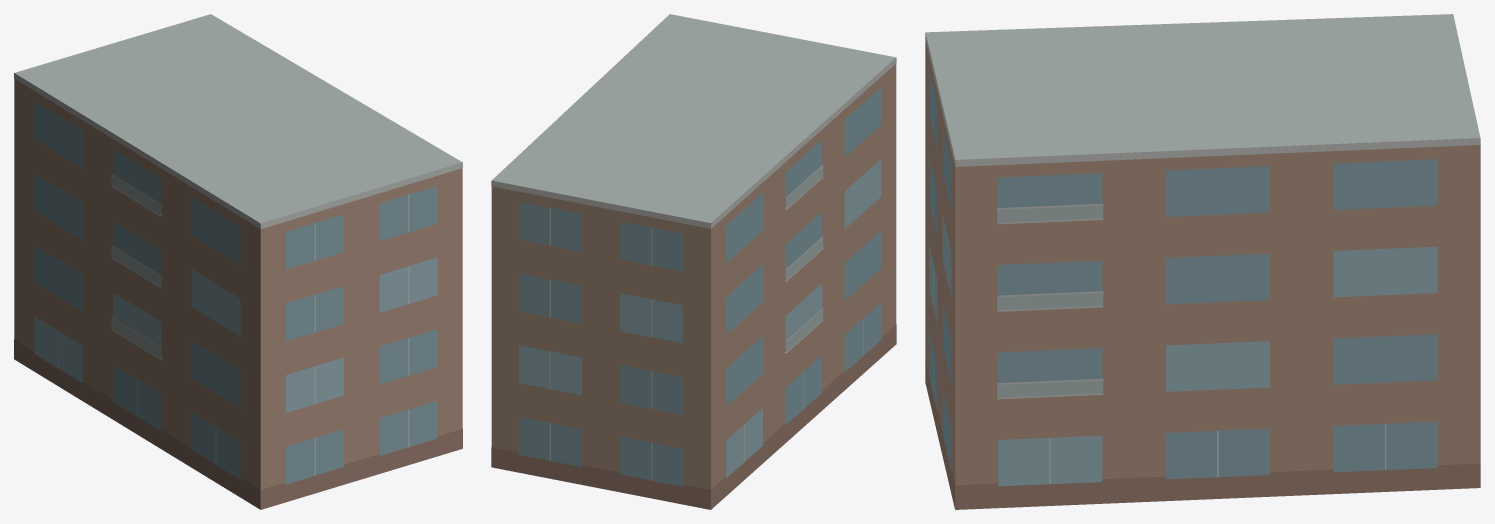
The model's file is survey-upis-32652886.glb.
3 views of the same model, side by side, from view 1: azimuth 30°, elevation 25°; view 2: azimuth 150°, elevation 25°; view 3: azimuth 270°, elevation 25° (orthographic). The views are drawn at different scales.
Visible parts, largest first — view 1: survey-upis-32652886.tmp; view 2: survey-upis-32652886.tmp; view 3: survey-upis-32652886.tmp.
Part boxes in pixels (x1,y1,x2,y2): survey-upis-32652886.tmp: (14, 14, 462, 509); survey-upis-32652886.tmp: (491, 14, 896, 509); survey-upis-32652886.tmp: (925, 14, 1480, 509).
Bounding box in the file's own units: 10.92 × 12.2 × 17.55.
